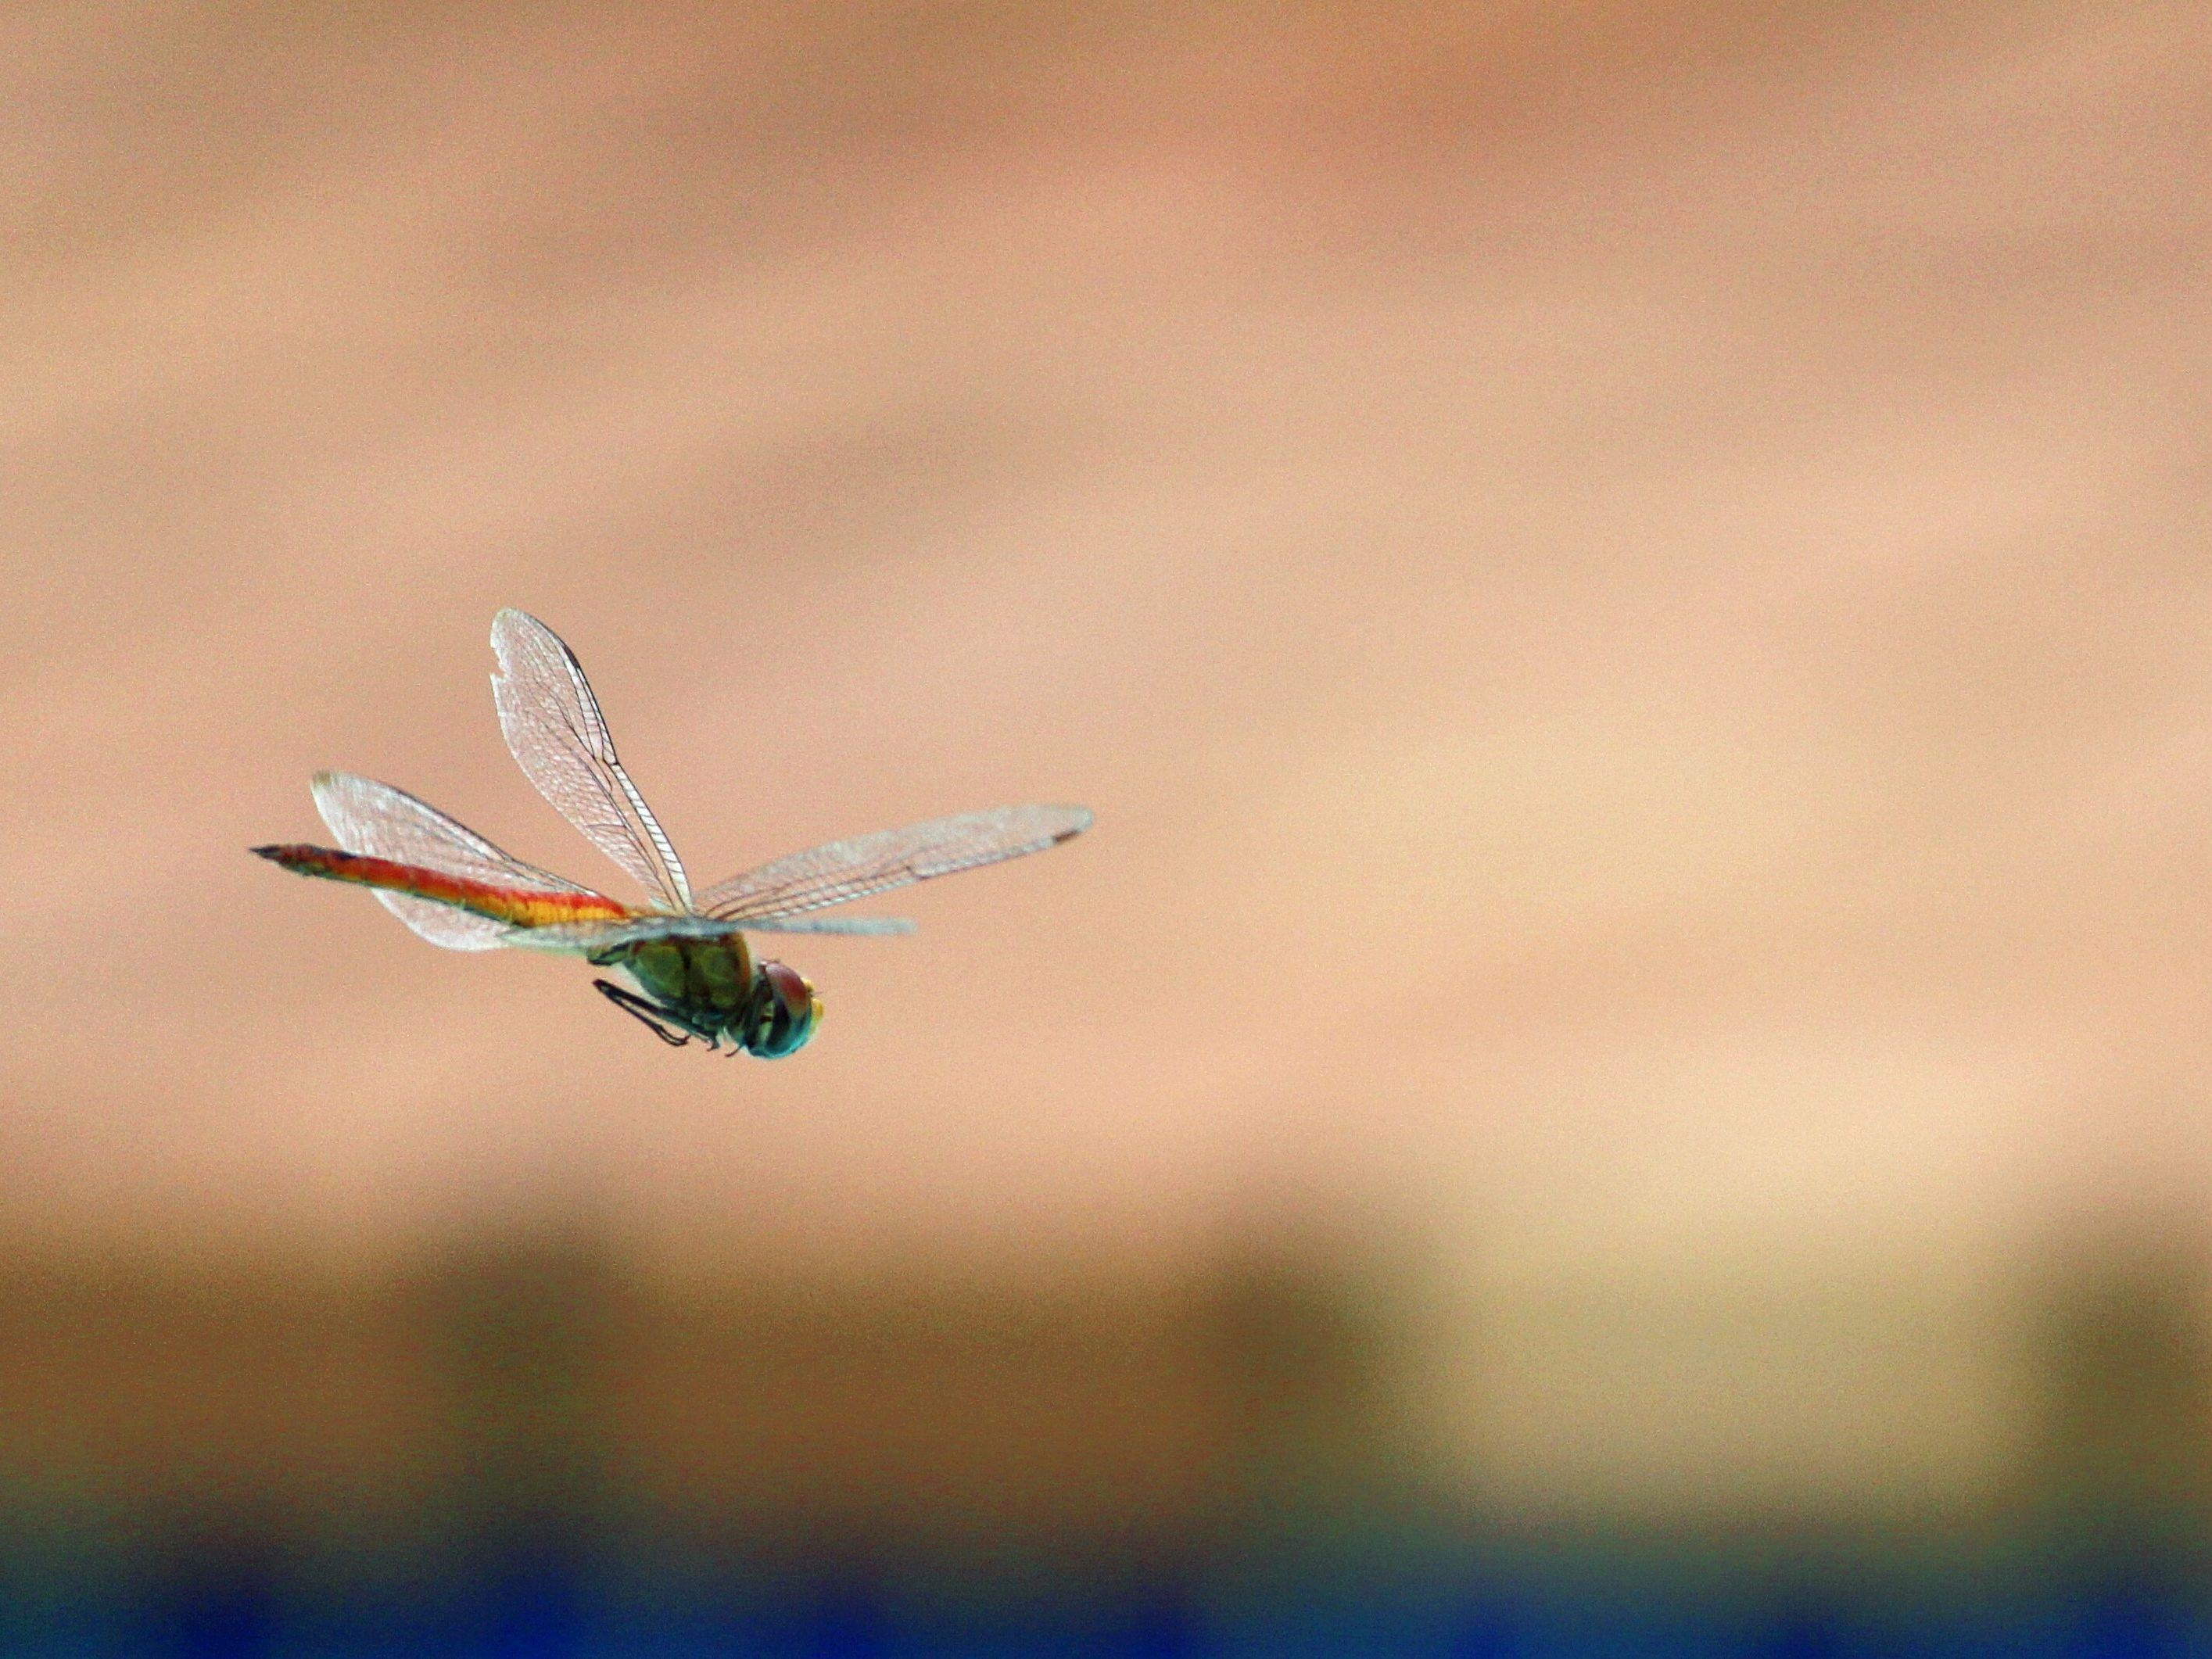insect: (251, 610, 1098, 1060)
